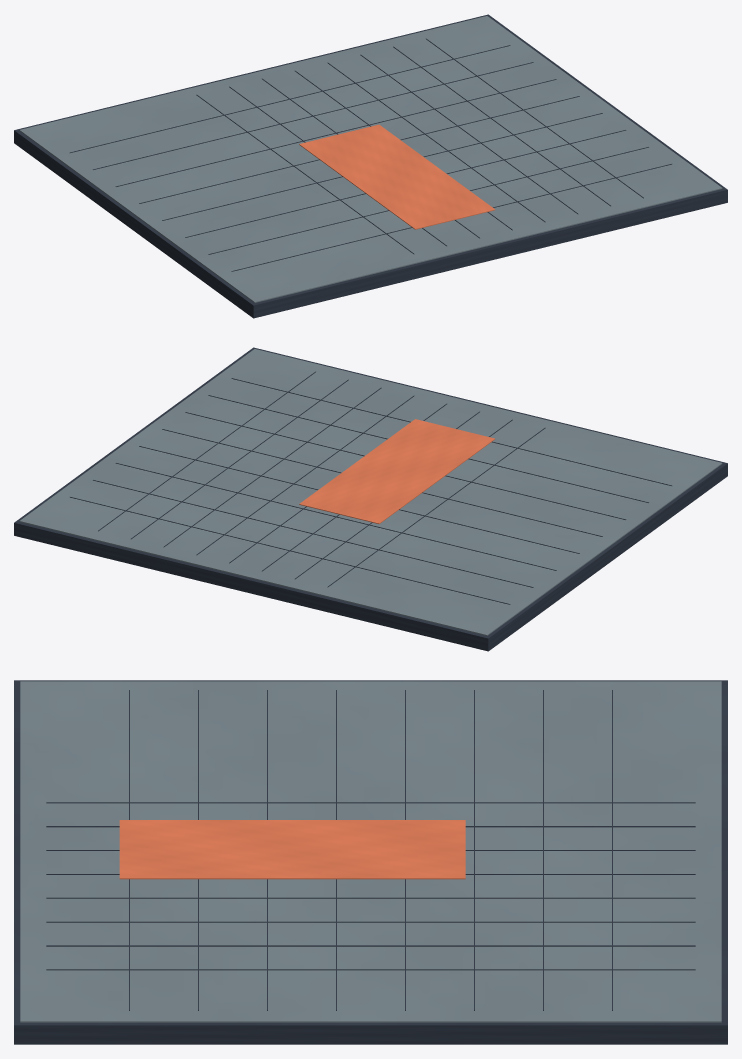
File: atlas100-s023-a07.lod1.glb
The picture shows the model from 3 angles, top to bottom: view 1: azimuth 30°, elevation 25°; view 2: azimuth 150°, elevation 25°; view 3: azimuth 270°, elevation 25°; orthographic projection. The views are drawn at different scales.
Visible parts, largest first — view 1: atlas100-s023-a07:part-001, atlas100-s023-a07:part-000, atlas100-s023-a07:part-021, atlas100-s023-a07:part-013, atlas100-s023-a07:part-014, atlas100-s023-a07:part-015, atlas100-s023-a07:part-020, atlas100-s023-a07:part-018, atlas100-s023-a07:part-019, atlas100-s023-a07:part-017, atlas100-s023-a07:part-016; view 2: atlas100-s023-a07:part-001, atlas100-s023-a07:part-000, atlas100-s023-a07:part-021, atlas100-s023-a07:part-013, atlas100-s023-a07:part-014, atlas100-s023-a07:part-015, atlas100-s023-a07:part-019, atlas100-s023-a07:part-020, atlas100-s023-a07:part-016, atlas100-s023-a07:part-018, atlas100-s023-a07:part-017; view 3: atlas100-s023-a07:part-001, atlas100-s023-a07:part-000, atlas100-s023-a07:part-021, atlas100-s023-a07:part-010, atlas100-s023-a07:part-011, atlas100-s023-a07:part-012, atlas100-s023-a07:part-005, atlas100-s023-a07:part-009, atlas100-s023-a07:part-006.
Boxes of the visible parts, x1=… form: atlas100-s023-a07:part-001: x1=19, y1=16, x2=722, y2=302; atlas100-s023-a07:part-000: x1=14, y1=14, x2=727, y2=318; atlas100-s023-a07:part-021: x1=299, y1=124, x2=495, y2=229; atlas100-s023-a07:part-013: x1=70, y1=45, x2=510, y2=152; atlas100-s023-a07:part-014: x1=93, y1=62, x2=533, y2=169; atlas100-s023-a07:part-015: x1=115, y1=79, x2=556, y2=186; atlas100-s023-a07:part-020: x1=231, y1=164, x2=671, y2=271; atlas100-s023-a07:part-018: x1=185, y1=130, x2=626, y2=237; atlas100-s023-a07:part-019: x1=208, y1=147, x2=648, y2=254; atlas100-s023-a07:part-017: x1=162, y1=113, x2=602, y2=220; atlas100-s023-a07:part-016: x1=139, y1=96, x2=579, y2=203; atlas100-s023-a07:part-001: x1=19, y1=349, x2=722, y2=635; atlas100-s023-a07:part-000: x1=14, y1=347, x2=727, y2=651; atlas100-s023-a07:part-021: x1=299, y1=419, x2=494, y2=523; atlas100-s023-a07:part-013: x1=70, y1=497, x2=510, y2=604; atlas100-s023-a07:part-014: x1=93, y1=480, x2=533, y2=587; atlas100-s023-a07:part-015: x1=115, y1=463, x2=556, y2=570; atlas100-s023-a07:part-019: x1=208, y1=395, x2=648, y2=502; atlas100-s023-a07:part-020: x1=231, y1=378, x2=671, y2=485; atlas100-s023-a07:part-016: x1=139, y1=446, x2=579, y2=553; atlas100-s023-a07:part-018: x1=185, y1=412, x2=626, y2=519; atlas100-s023-a07:part-017: x1=162, y1=429, x2=602, y2=536; atlas100-s023-a07:part-001: x1=20, y1=681, x2=721, y2=1022; atlas100-s023-a07:part-000: x1=14, y1=680, x2=727, y2=1044; atlas100-s023-a07:part-021: x1=119, y1=820, x2=465, y2=879; atlas100-s023-a07:part-010: x1=46, y1=921, x2=695, y2=922; atlas100-s023-a07:part-011: x1=46, y1=945, x2=695, y2=946; atlas100-s023-a07:part-012: x1=46, y1=969, x2=695, y2=970; atlas100-s023-a07:part-005: x1=46, y1=802, x2=695, y2=803; atlas100-s023-a07:part-009: x1=46, y1=897, x2=695, y2=898; atlas100-s023-a07:part-006: x1=46, y1=826, x2=695, y2=827.
Size of the model in its own units: 13.02 by 0.404 by 11.39.
Materials: 3 (3 with a texture image).
